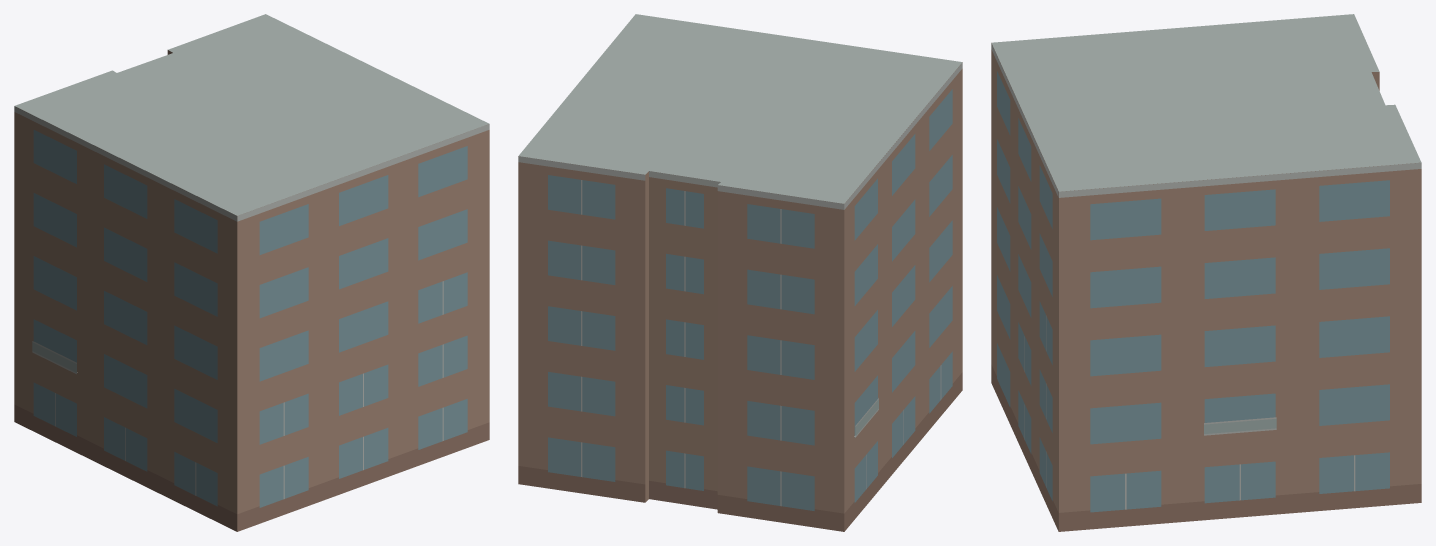
Rendered from survey-upis-32841839.glb.
3 views of the same model, side by side, from view 1: azimuth 30°, elevation 25°; view 2: azimuth 150°, elevation 25°; view 3: azimuth 270°, elevation 25° (orthographic). The views are drawn at different scales.
Parts seen in each view (by area): view 1: survey-upis-32841839.tmp; view 2: survey-upis-32841839.tmp; view 3: survey-upis-32841839.tmp.
Part boxes in pixels (left/top/right/bottom): survey-upis-32841839.tmp: left=14, top=14, right=489, bottom=531; survey-upis-32841839.tmp: left=518, top=14, right=962, bottom=531; survey-upis-32841839.tmp: left=991, top=14, right=1421, bottom=531.
Size of the model in its own units: 14.79 by 13.2 by 15.14.
